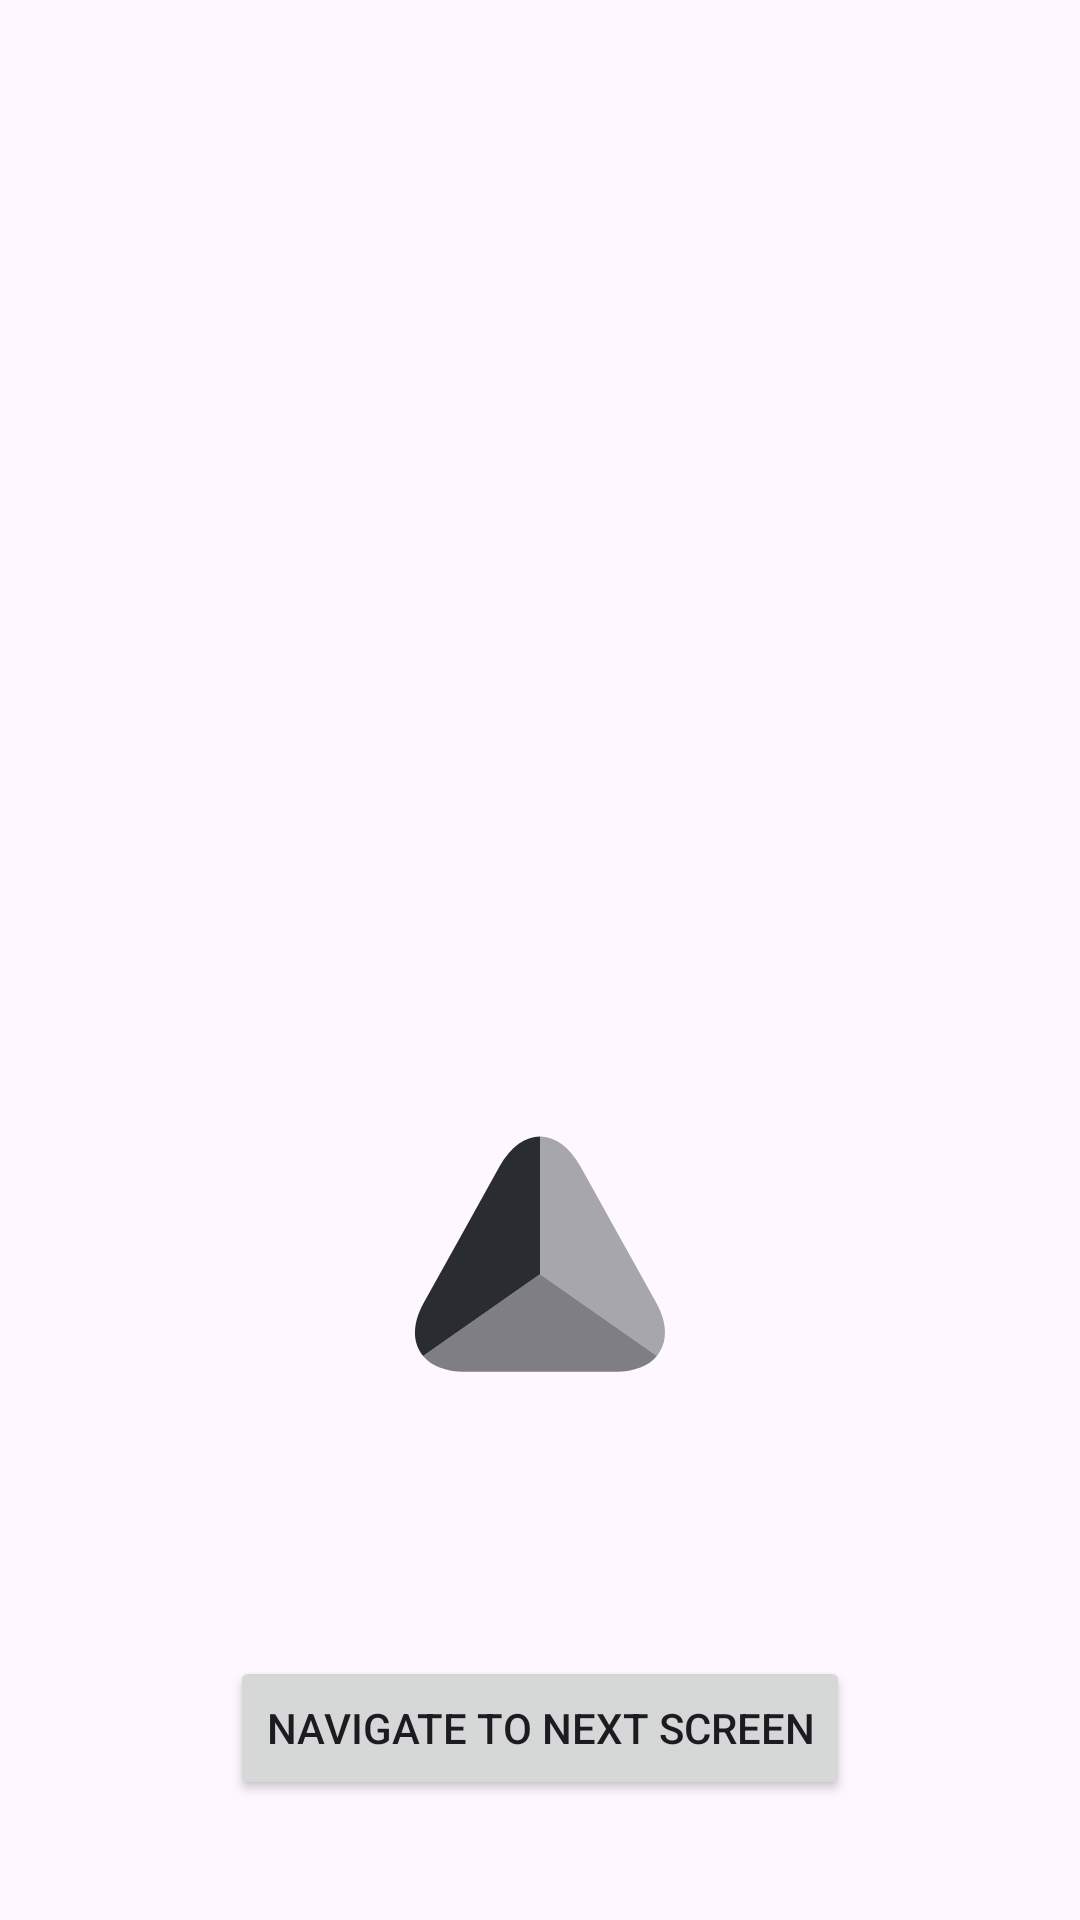

Point at icon controls on the screen. Image size 1080w x 1920h, points as (x=x, y=y).
pyramid: (x=540, y=1254)
